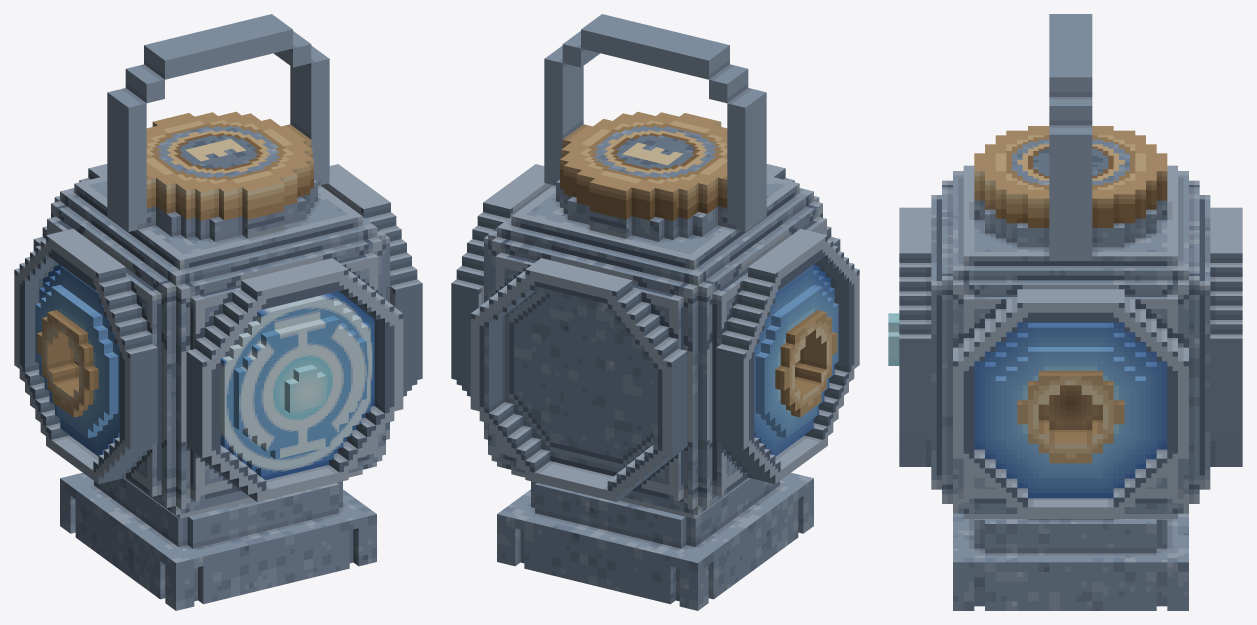
Rendered from blue_lantern.glb.
3 renders of one model, left to right at view 1: azimuth 30°, elevation 25°; view 2: azimuth 150°, elevation 25°; view 3: azimuth 270°, elevation 25°, orthographic.
Parts seen in each view (by area): view 1: geometry_0; view 2: geometry_0; view 3: geometry_0.
Boxes of the visible parts, left/top/right/bottom form: geometry_0: left=14, top=14, right=422, bottom=610; geometry_0: left=451, top=14, right=859, bottom=610; geometry_0: left=888, top=14, right=1242, bottom=610.
Bounding box in the file's own units: 1.06 × 1.66 × 1.03.
